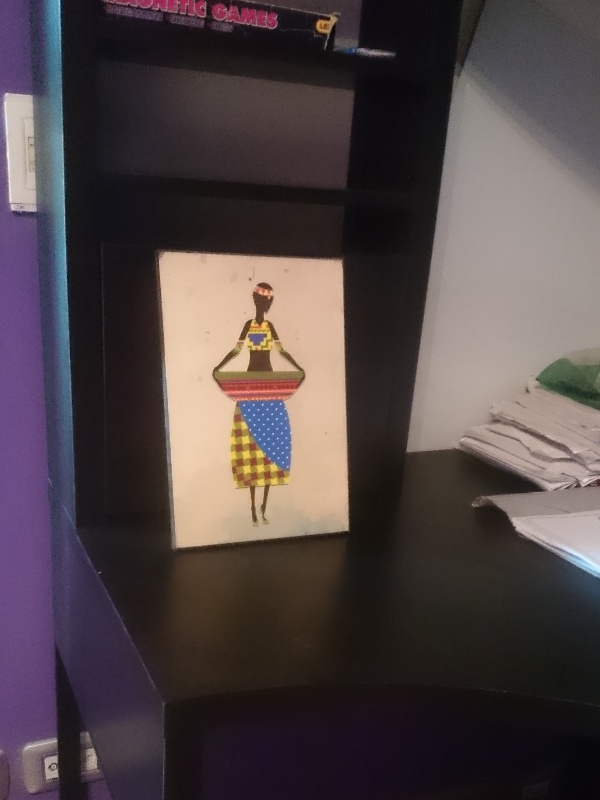my image: (163, 257, 343, 547)
